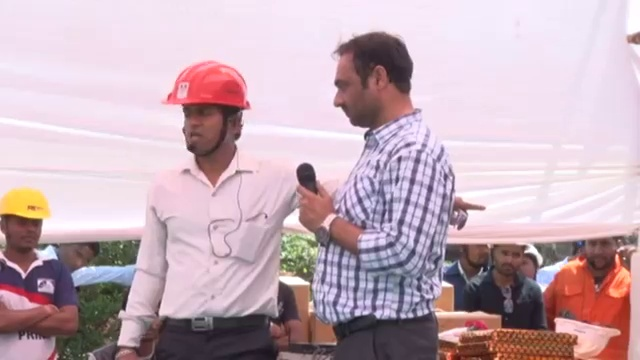helmet: (155, 54, 253, 112), (553, 317, 621, 358), (0, 187, 53, 224), (522, 243, 544, 267)
helmet_off: (330, 32, 419, 124), (51, 241, 101, 278), (491, 241, 530, 284), (585, 234, 621, 273), (455, 241, 491, 274)
helmet_on: (156, 55, 253, 179), (0, 187, 52, 264), (517, 243, 545, 281)
person: (97, 48, 303, 360), (297, 16, 470, 360), (0, 187, 80, 360), (544, 232, 631, 360), (467, 242, 544, 329), (40, 242, 138, 290), (436, 243, 493, 311)
